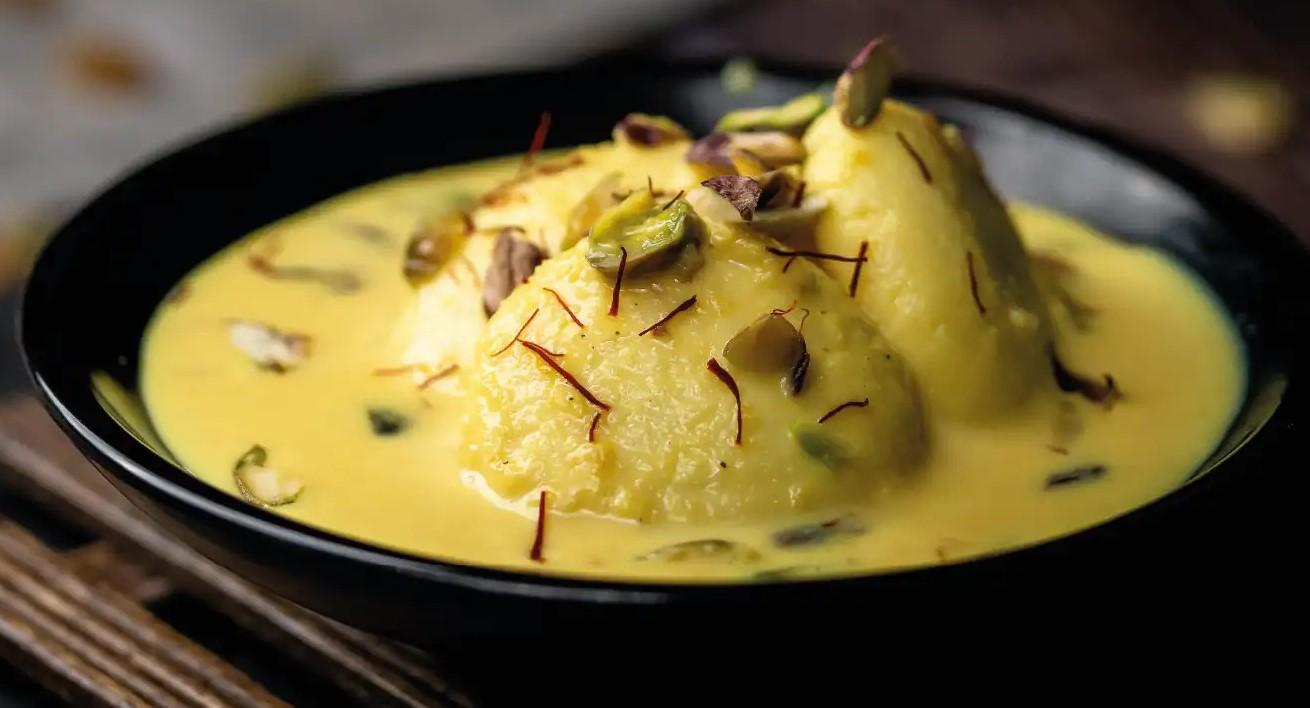RasMalai: (142, 32, 1246, 572)
